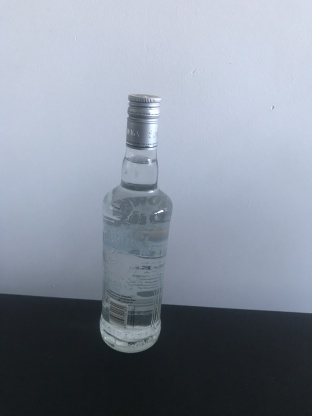nakretka: (124, 90, 161, 152)
